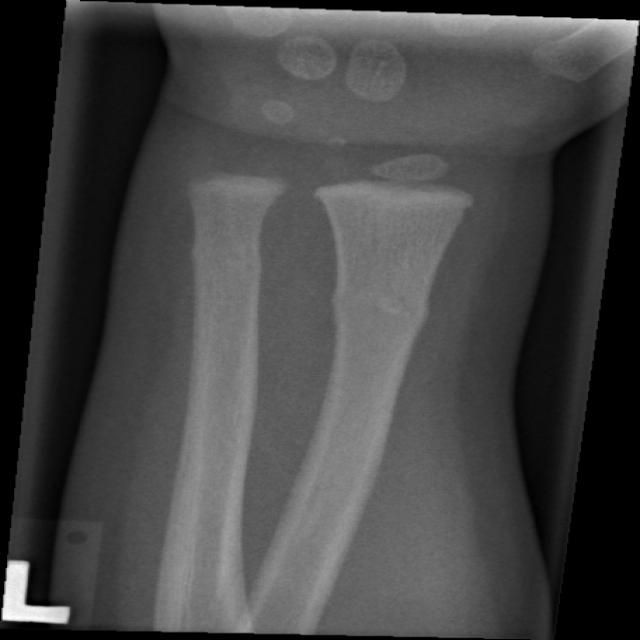radius fracture: (304, 240, 483, 435)
ulna fracture: (164, 194, 302, 360)
